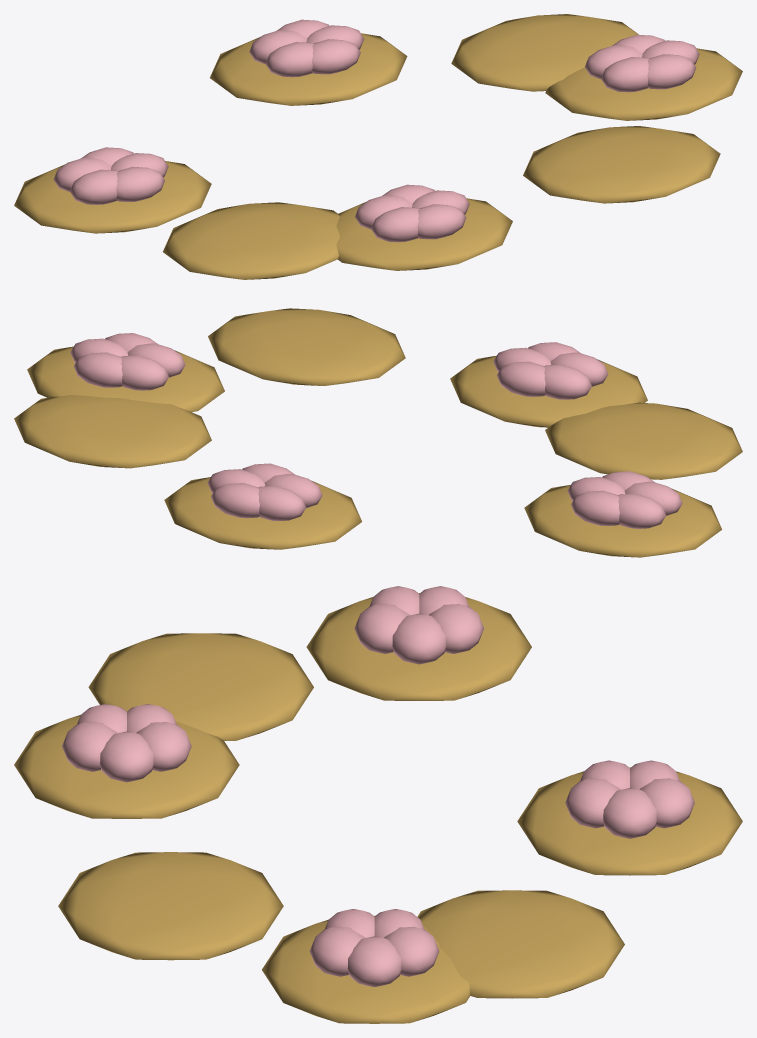
File: prop-lilies.glb
The picture shows the model from 3 angles, top to bottom: view 1: azimuth 30°, elevation 25°; view 2: azimuth 150°, elevation 25°; view 3: azimuth 270°, elevation 25°; orthographic projection. The views are drawn at different scales.
Parts seen in each view (by area): view 1: prop-lilies_leaf, prop-lilies_pink; view 2: prop-lilies_leaf, prop-lilies_pink; view 3: prop-lilies_leaf, prop-lilies_pink.
Boxes of the visible parts, left/top/right/bottom form: prop-lilies_leaf: left=14, top=14, right=742, bottom=279; prop-lilies_pink: left=53, top=19, right=699, bottom=242; prop-lilies_leaf: left=14, top=308, right=742, bottom=557; prop-lilies_pink: left=70, top=333, right=682, bottom=528; prop-lilies_leaf: left=14, top=593, right=742, bottom=1023; prop-lilies_pink: left=62, top=586, right=694, bottom=987.
Bounding box in the file's own units: 1.98 × 0.115 × 1.42.
